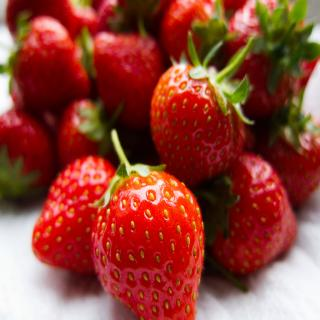Strawberry: (0, 0, 320, 277), (92, 131, 204, 318)
